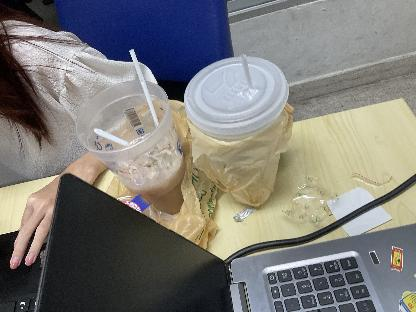Others: (106, 98, 222, 254), (74, 77, 188, 215), (190, 102, 292, 208), (182, 54, 290, 140), (326, 184, 394, 240), (283, 174, 339, 234), (127, 48, 163, 131), (92, 127, 130, 147), (232, 202, 262, 226), (240, 53, 256, 91)
